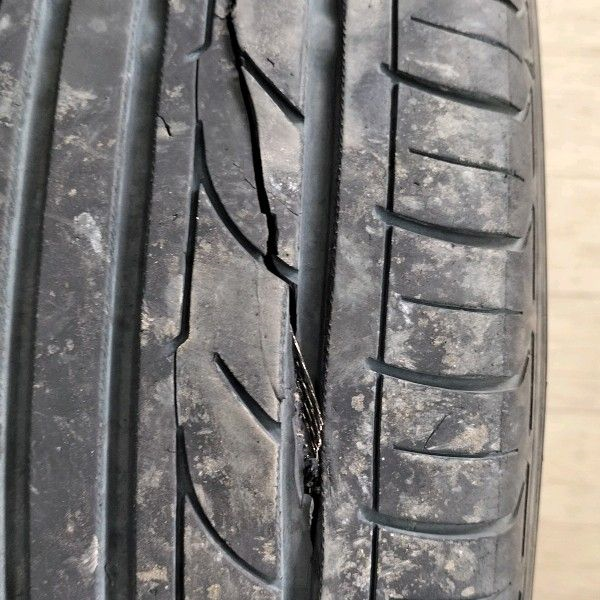tr: (222, 36, 330, 573)
